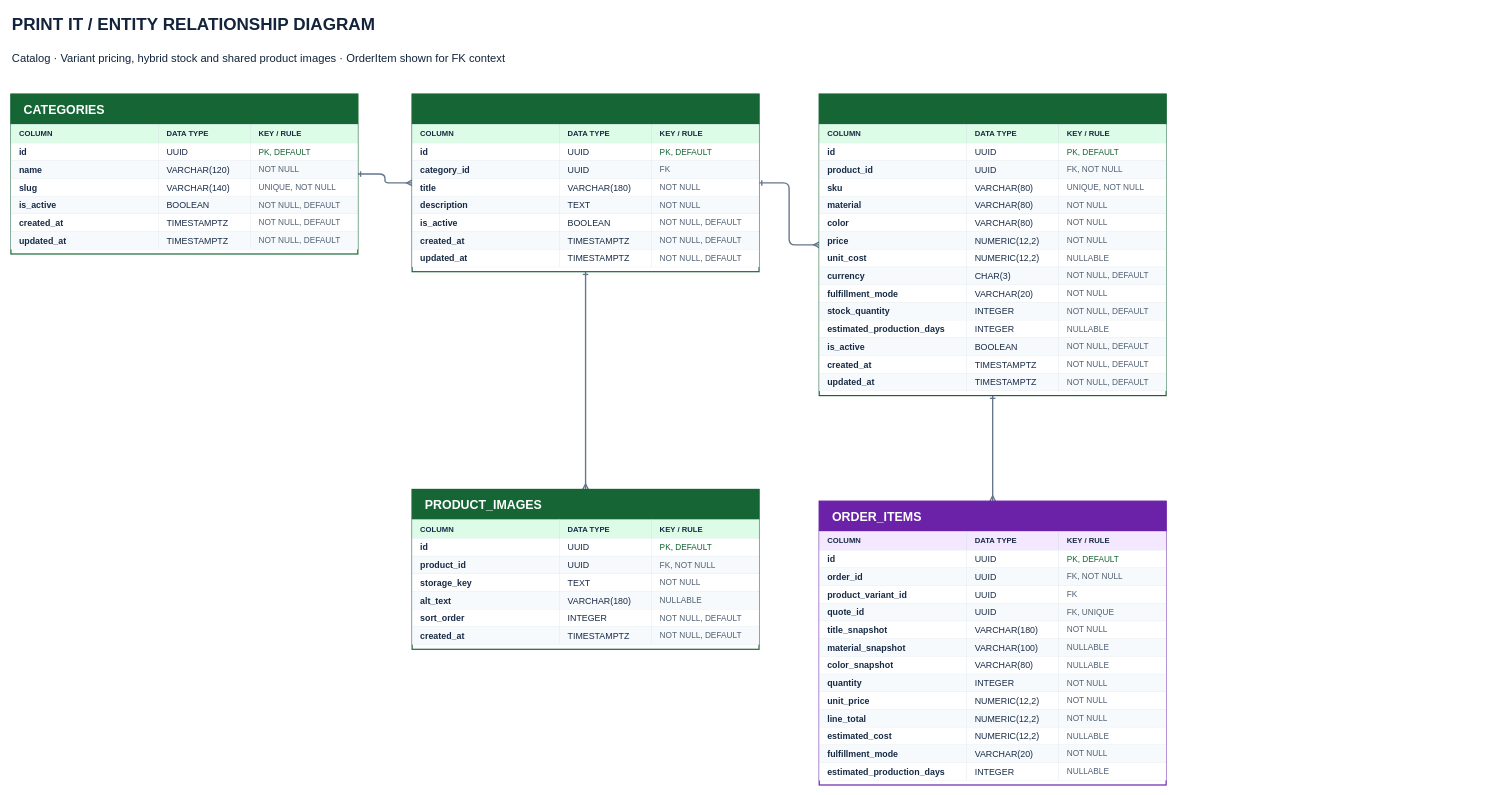
This 1496x795 diagram has some shape labels left out. Here are the shapes that lost their labels. From the top down, the centre of each, then its label:
At point 585,109: "PRODUCTS".
At point 992,109: "PRODUCT_VARIANTS".
